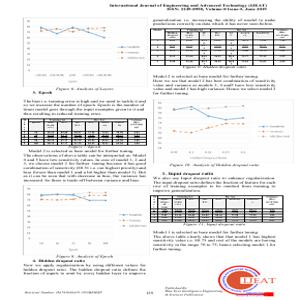diagram: (22, 16, 149, 92), (23, 183, 149, 256), (154, 99, 291, 164)
image: (215, 264, 285, 300)
table: (149, 27, 293, 65), (151, 195, 285, 224), (20, 118, 148, 147)
text: (20, 147, 149, 185), (151, 169, 291, 192), (152, 72, 277, 97), (152, 229, 284, 252), (23, 262, 150, 279), (152, 16, 293, 28)
